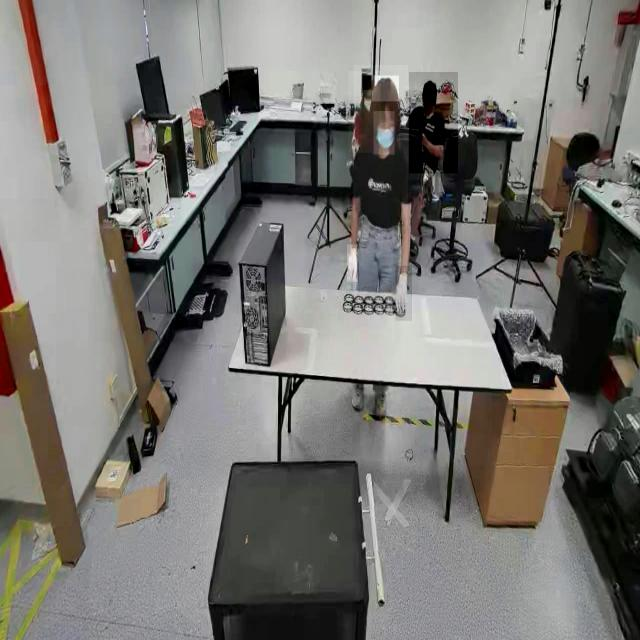face_mask: (374, 111, 394, 155)
hand_glove: (395, 266, 412, 322), (346, 245, 358, 282)
hand_noglove: (421, 128, 428, 147)
head_nohelmet: (371, 76, 399, 102), (423, 79, 437, 96), (362, 76, 373, 90)
person: (353, 65, 408, 302), (408, 72, 458, 174), (348, 71, 380, 153)
